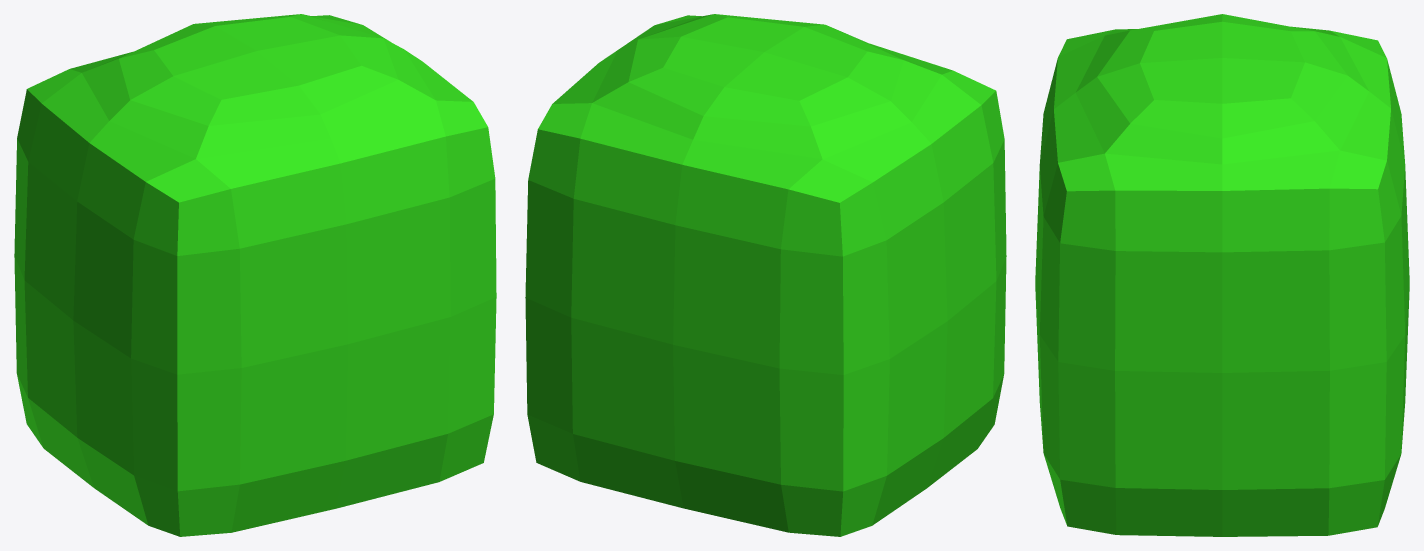
Rendered from Plant.fbx.
3 views of the same model, side by side, from view 1: azimuth 30°, elevation 25°; view 2: azimuth 150°, elevation 25°; view 3: azimuth 270°, elevation 25° (orthographic).
Visible parts, largest first — view 1: Plant; view 2: Plant; view 3: Plant.
Part boxes in pixels (bbox=[...]): Plant: bbox=[14, 14, 496, 536]; Plant: bbox=[525, 14, 1006, 536]; Plant: bbox=[1035, 14, 1409, 536].
Size of the model in its own units: 945 by 1016 by 836.
